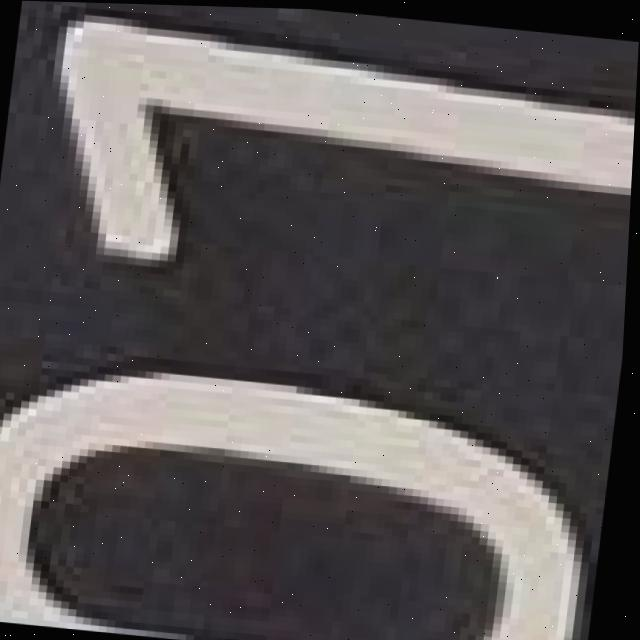character: (3, 1, 640, 333), (0, 318, 621, 640)
